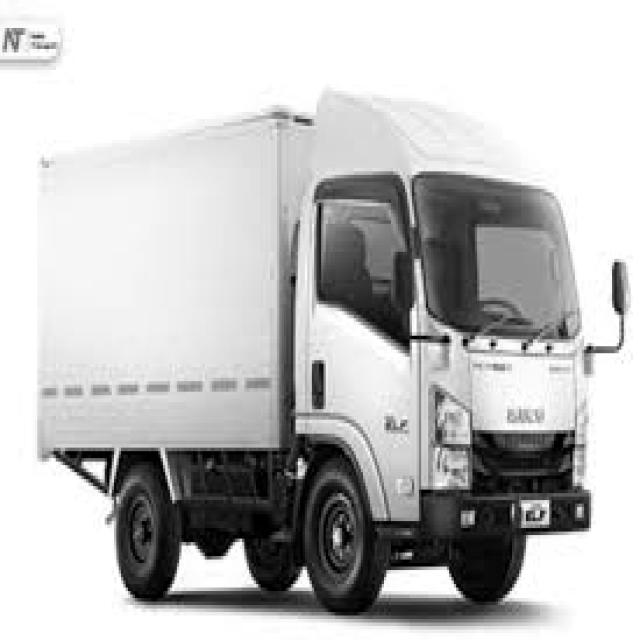truck: (276, 70, 640, 624)
